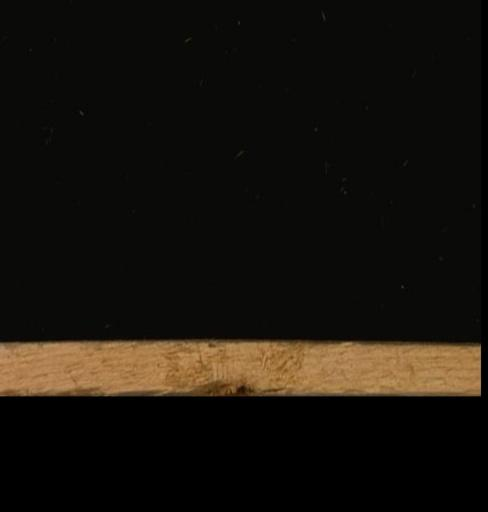wave: (113, 381, 296, 395)
